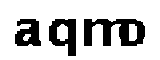D: (125, 17, 148, 48)
a: (13, 18, 44, 52)
m: (82, 17, 125, 53)
q: (47, 15, 80, 60)
